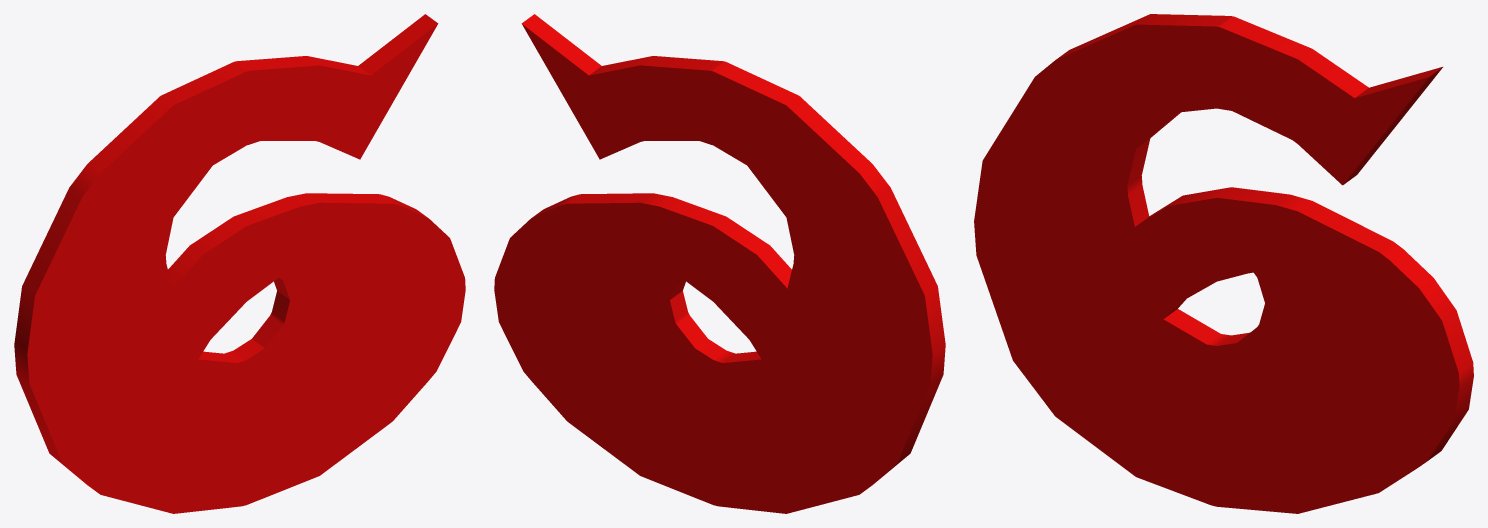
The picture shows the model from 3 angles, left to right: view 1: azimuth 30°, elevation 25°; view 2: azimuth 150°, elevation 25°; view 3: azimuth 330°, elevation 25°; orthographic projection. The views are drawn at different scales.
Visible parts, largest first — view 1: Trim_Char_x_1_1; view 2: Trim_Char_x_1_1; view 3: Trim_Char_x_1_1.
Boxes of the visible parts, box(x1,y1,x2,y2) form: Trim_Char_x_1_1: box(14, 14, 465, 513); Trim_Char_x_1_1: box(494, 14, 945, 513); Trim_Char_x_1_1: box(974, 14, 1473, 513).
Size of the model in its own units: 0.7864 by 0.7453 by 0.0405.
